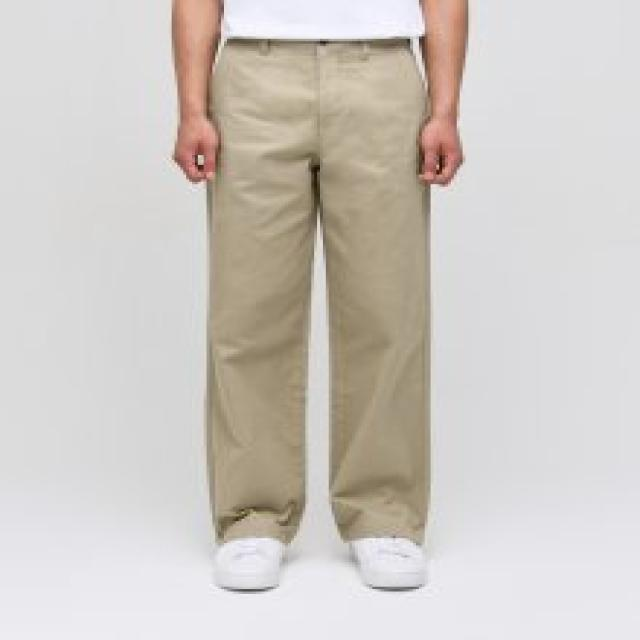long-pants: (206, 39, 428, 546)
